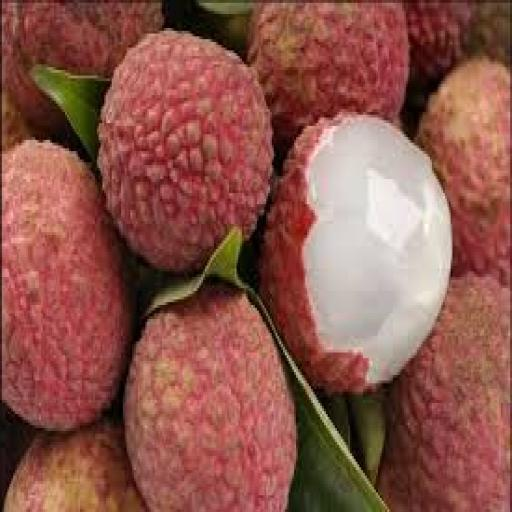lychee: (260, 115, 451, 391), (98, 31, 272, 271), (124, 286, 295, 511), (1, 140, 131, 430), (377, 275, 509, 511), (247, 3, 406, 145), (1, 0, 160, 134), (417, 59, 509, 285), (3, 423, 144, 511), (404, 0, 473, 81), (465, 0, 511, 67), (1, 90, 30, 151)
